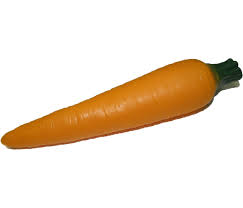carrot: (1, 49, 219, 176)
